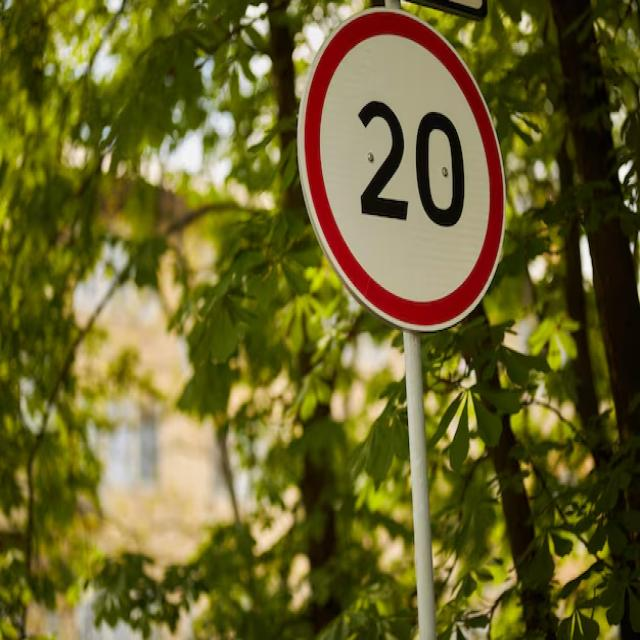speed_20: (298, 9, 509, 334)
